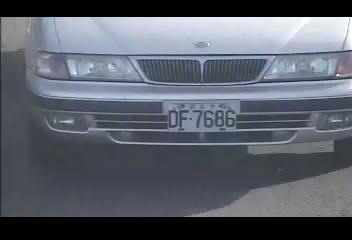plate: (163, 99, 238, 133)
